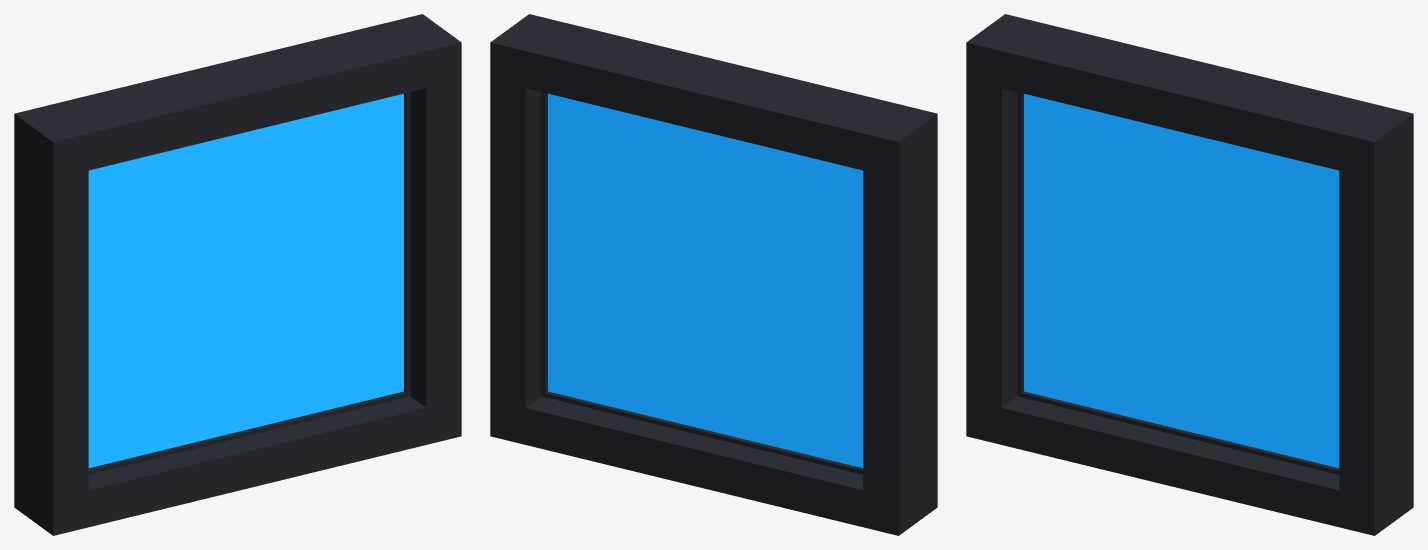
File: janela_quadrada_inteira_preta.glb
The picture shows the model from 3 angles, left to right: view 1: azimuth 30°, elevation 25°; view 2: azimuth 150°, elevation 25°; view 3: azimuth 330°, elevation 25°; orthographic projection.
Parts seen in each view (by area): view 1: janela_quadrada_inteira_preta; view 2: janela_quadrada_inteira_preta; view 3: janela_quadrada_inteira_preta.
Part boxes in pixels (x1,y1,x2,y2): janela_quadrada_inteira_preta: (14,14,461,535); janela_quadrada_inteira_preta: (490,14,937,535); janela_quadrada_inteira_preta: (966,14,1413,535).
Bounding box in the file's own units: 1.27 × 1.17 × 0.21.
